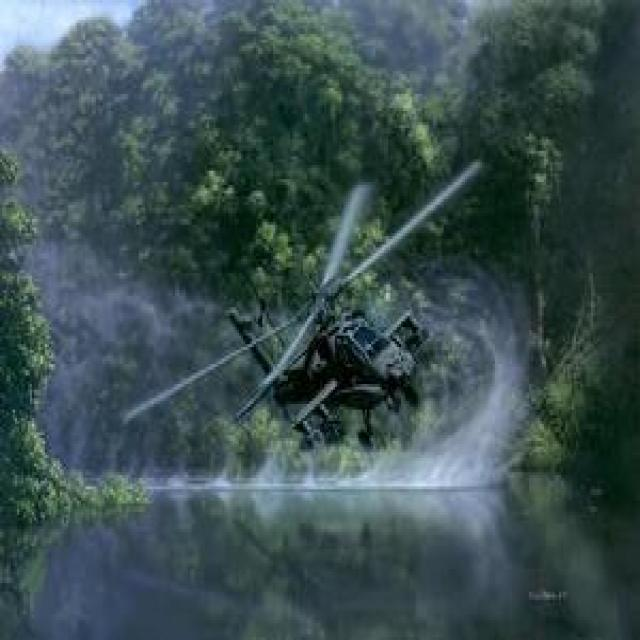MIL_HELO: (109, 161, 496, 454)
